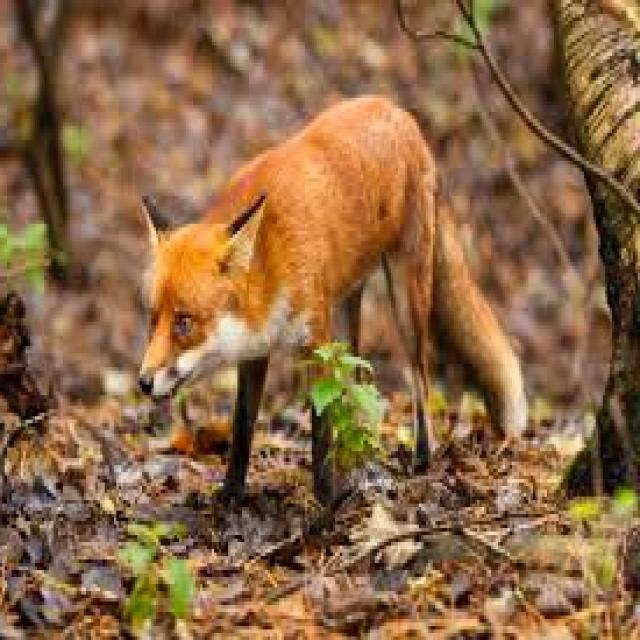fox: (134, 94, 528, 490)
